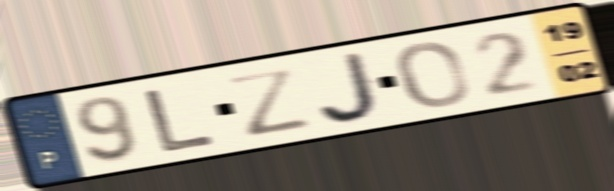2: (472, 28, 543, 100)
9: (75, 92, 142, 167)
J: (314, 48, 388, 127)
L: (142, 85, 220, 155)
O: (393, 40, 473, 111)
Z: (222, 64, 316, 139)
